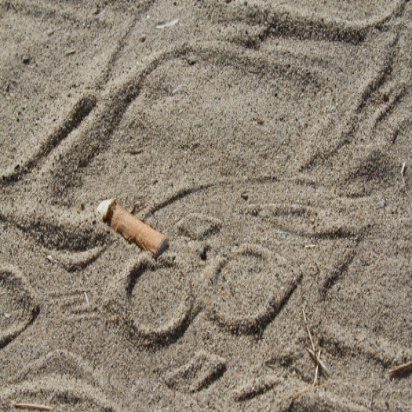cigarette: (96, 200, 169, 259)
